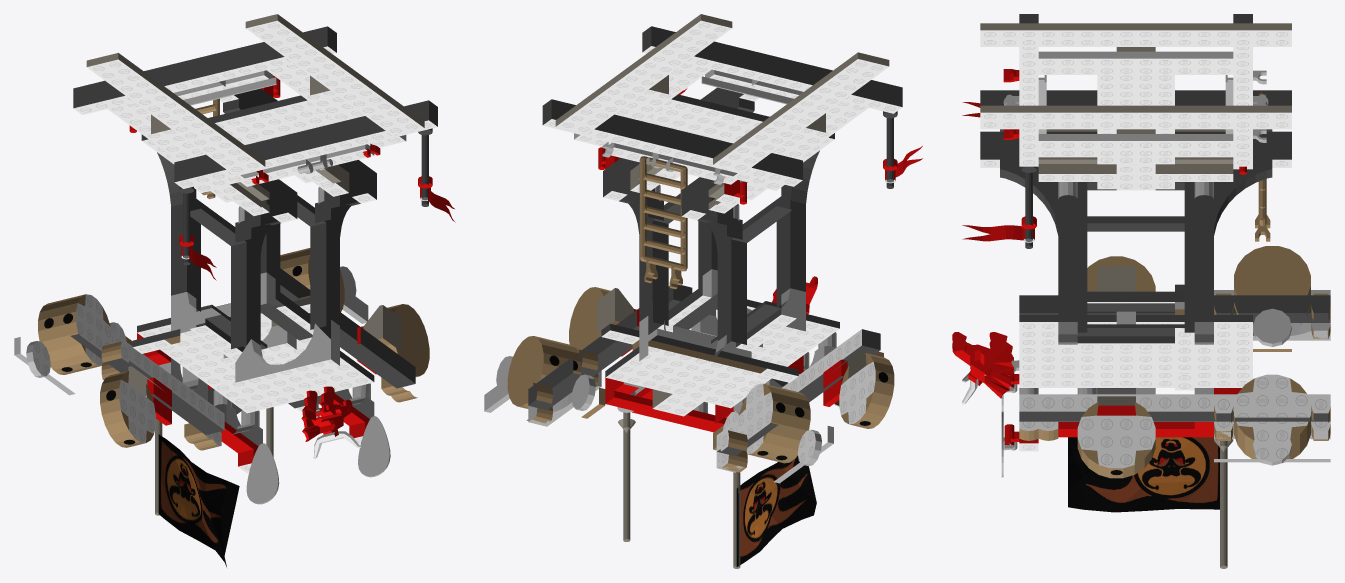
3 renders of one model, left to right at view 1: azimuth 30°, elevation 25°; view 2: azimuth 150°, elevation 25°; view 3: azimuth 270°, elevation 25°, orthographic. The views are drawn at different scales.
Visible parts, largest first — view 1: 151_shape53, 005_OC_6096B3_PART_1, 182_shape72, 176_shape68, 070_shape16, 064_shape12, 133_shape41, 036_OC_6096B3_Ammo_75, 173_shape67, 059_shape9, 056_OC_6096B3__Arm_BK, 053_OC_6096B3__Arm_BK (+9 smaller); view 2: 151_shape53, 005_OC_6096B3_PART_1, 182_shape72, 176_shape68, 064_shape12, 070_shape16, 036_OC_6096B3_Ammo_75, 059_shape9, 173_shape67, 111_shape30, 133_shape41, 053_OC_6096B3__Arm_BK (+10 smaller); view 3: 151_shape53, 005_OC_6096B3_PART_1, 176_shape68, 070_shape16, 059_shape9, 053_OC_6096B3__Arm_BK, 045_OC_6096B3_Ammo_75, 173_shape67, 182_shape72, 169_shape65, 056_OC_6096B3__Arm_BK, 036_OC_6096B3_Ammo_75 (+10 smaller).
Boxes of the visible parts, bbox=[...] form: 151_shape53: bbox=[132, 88, 376, 413]; 005_OC_6096B3_PART_1: bbox=[86, 14, 424, 174]; 182_shape72: bbox=[73, 26, 437, 188]; 176_shape68: bbox=[108, 63, 406, 187]; 070_shape16: bbox=[158, 434, 239, 567]; 064_shape12: bbox=[100, 336, 221, 450]; 133_shape41: bbox=[137, 333, 374, 473]; 036_OC_6096B3_Ammo_75: bbox=[38, 294, 112, 374]; 173_shape67: bbox=[141, 95, 337, 193]; 059_shape9: bbox=[299, 295, 429, 402]; 056_OC_6096B3__Arm_BK: bbox=[70, 331, 224, 434]; 053_OC_6096B3__Arm_BK: bbox=[280, 268, 415, 388]; 151_shape53: bbox=[601, 87, 839, 408]; 005_OC_6096B3_PART_1: bbox=[555, 14, 889, 172]; 182_shape72: bbox=[542, 26, 902, 186]; 176_shape68: bbox=[574, 63, 868, 185]; 064_shape12: bbox=[713, 348, 894, 472]; 070_shape16: bbox=[736, 455, 816, 566]; 036_OC_6096B3_Ammo_75: bbox=[737, 383, 810, 463]; 059_shape9: bbox=[525, 287, 639, 423]; 173_shape67: bbox=[642, 94, 834, 190]; 111_shape30: bbox=[639, 156, 687, 289]; 133_shape41: bbox=[605, 332, 836, 432]; 053_OC_6096B3__Arm_BK: bbox=[528, 285, 692, 410]; 151_shape53: bbox=[980, 90, 1291, 390]; 005_OC_6096B3_PART_1: bbox=[980, 23, 1291, 133]; 176_shape68: bbox=[1003, 51, 1268, 157]; 070_shape16: bbox=[1068, 437, 1219, 512]; 059_shape9: bbox=[1019, 395, 1330, 478]; 053_OC_6096B3__Arm_BK: bbox=[1019, 394, 1330, 421]; 045_OC_6096B3_Ammo_75: bbox=[1234, 374, 1310, 462]; 173_shape67: bbox=[1097, 75, 1174, 190]; 182_shape72: bbox=[1019, 14, 1252, 166]; 169_shape65: bbox=[1038, 129, 1233, 181]; 056_OC_6096B3__Arm_BK: bbox=[1019, 295, 1330, 322]; 036_OC_6096B3_Ammo_75: bbox=[1234, 246, 1310, 324].
Bounding box in the file's own units: 15.68 × 21.12 × 15.56.
12 materials, 5 textured.
